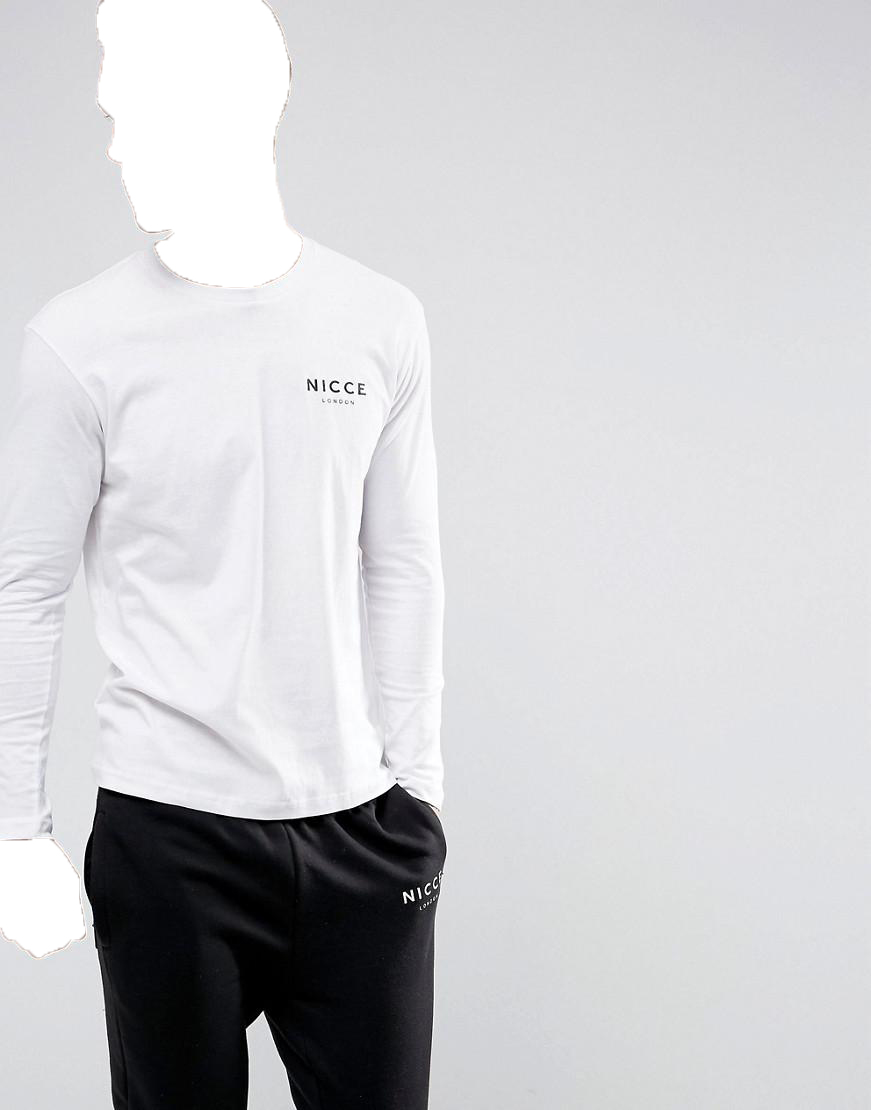teeshirt: (7, 229, 457, 822)
